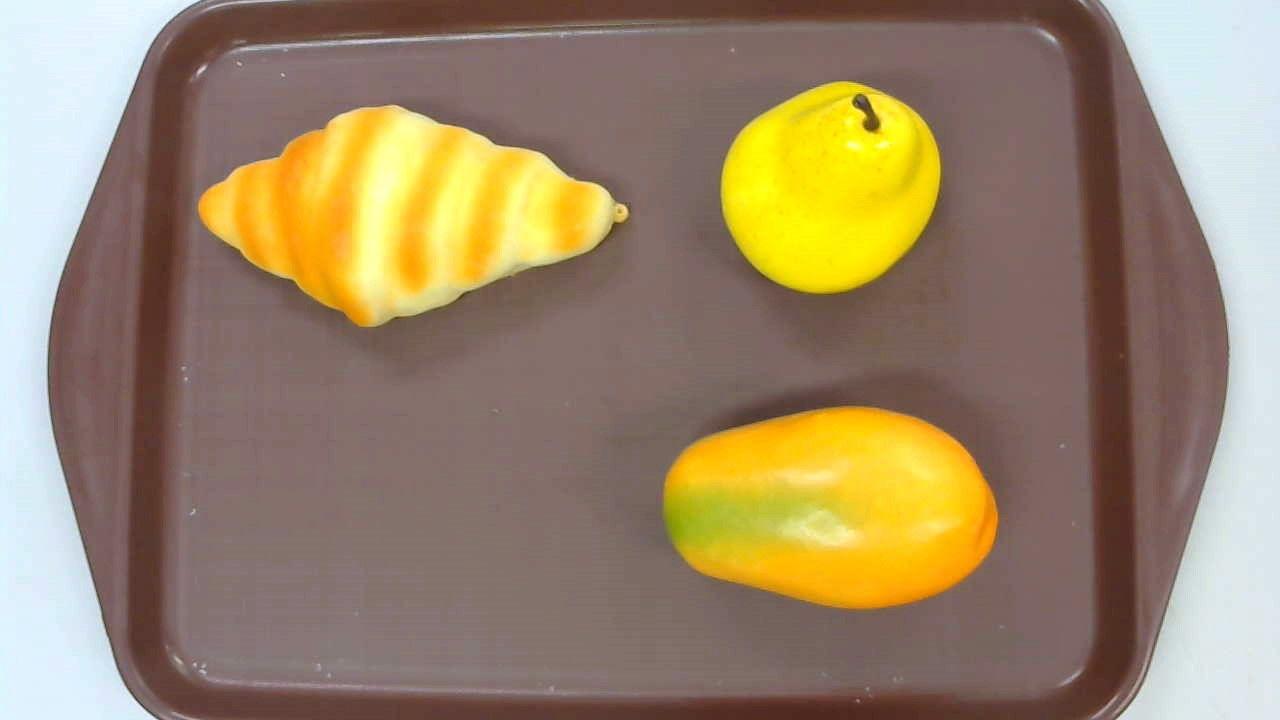croissant: (197, 104, 629, 329)
papya: (661, 406, 999, 610)
yellow pear: (720, 80, 940, 297)
